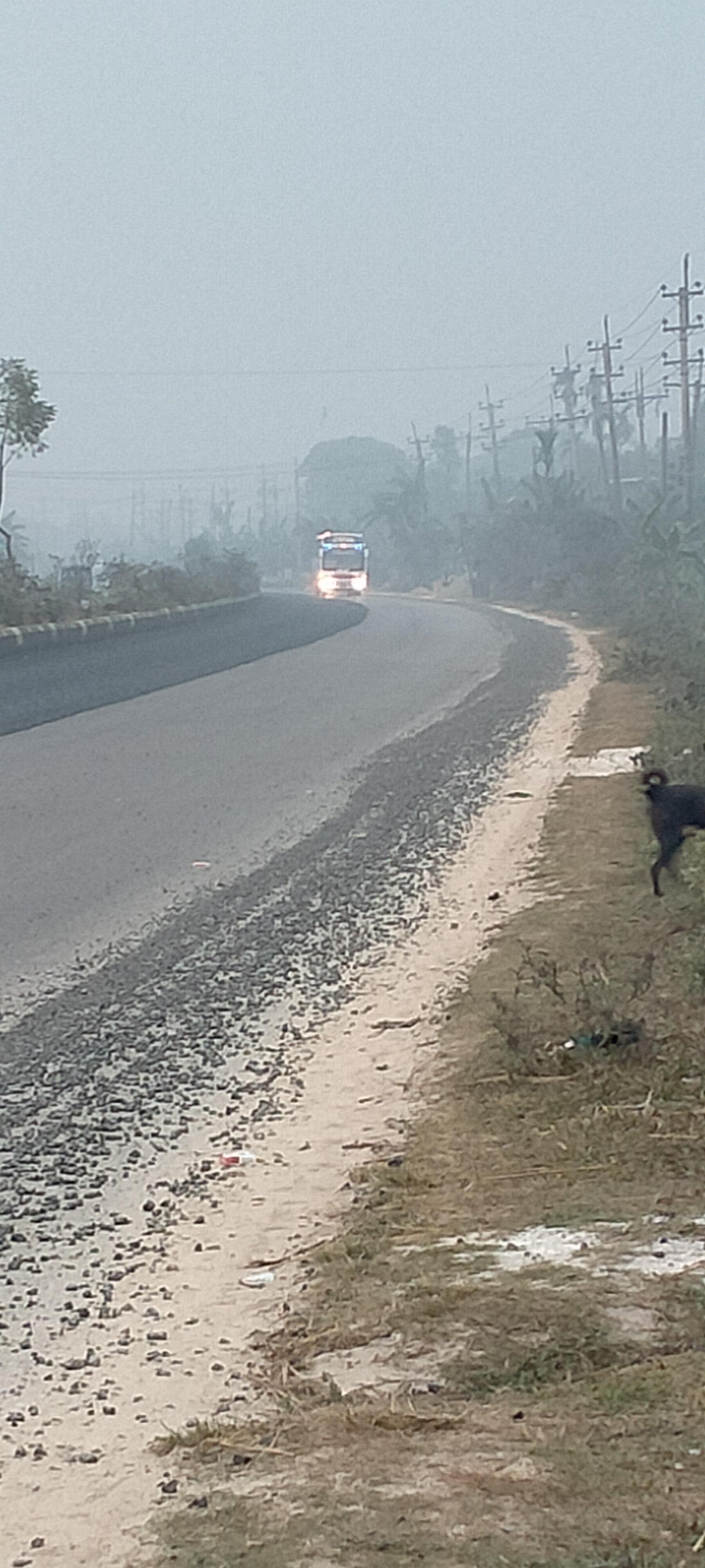Bus: (308, 521, 383, 619)
